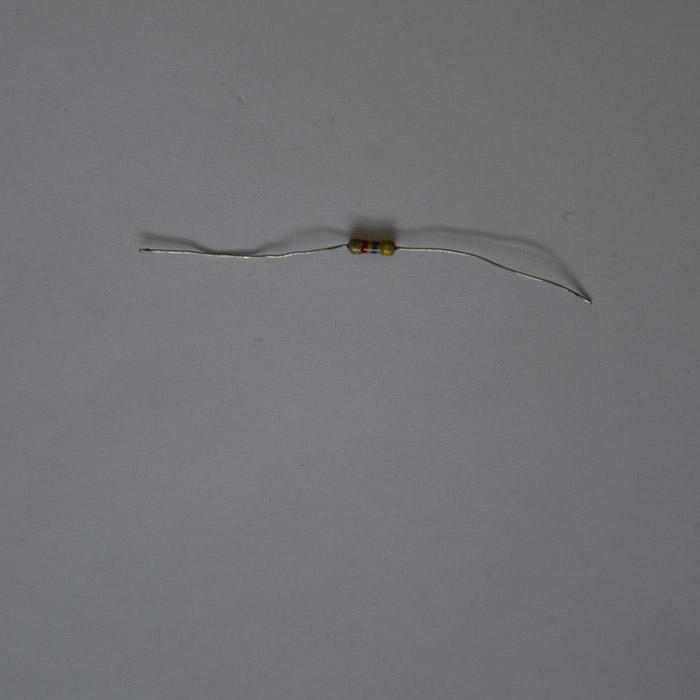resistor: (349, 237, 396, 255)
